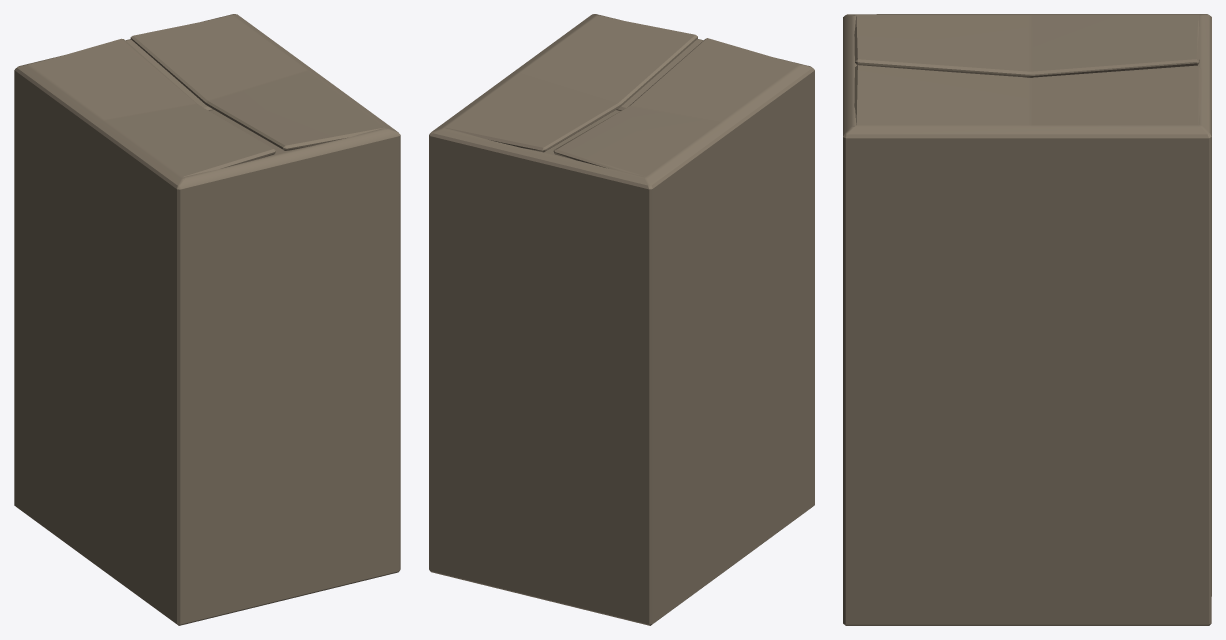
Rendered from A4E_CloseBox.fbx.
3 views of the same model, side by side, from view 1: azimuth 30°, elevation 25°; view 2: azimuth 150°, elevation 25°; view 3: azimuth 270°, elevation 25° (orthographic). The views are drawn at different scales.
Visible parts, largest first — view 1: pCube8; view 2: pCube8; view 3: pCube8.
Part boxes in pixels (x1=…): pCube8: x1=14, y1=14, x2=400, y2=625; pCube8: x1=429, y1=14, x2=814, y2=625; pCube8: x1=843, y1=14, x2=1211, y2=625.
Bounding box in the file's own units: 0.7832 × 1.5 × 1.
